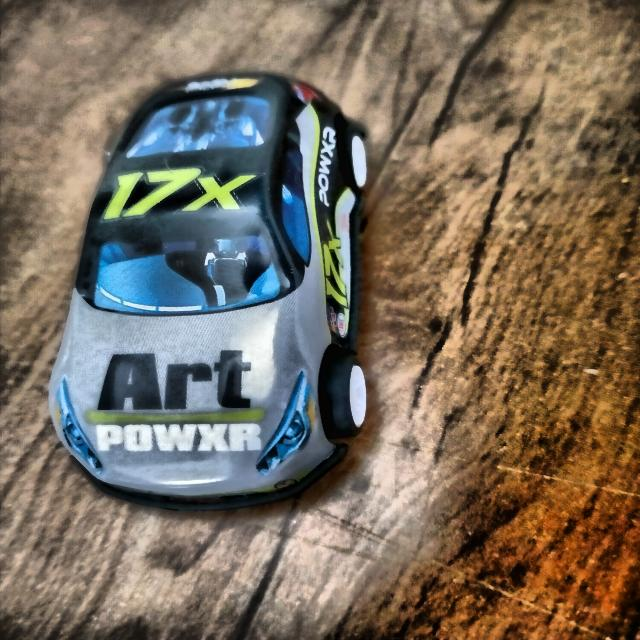Car: (58, 74, 391, 498)
